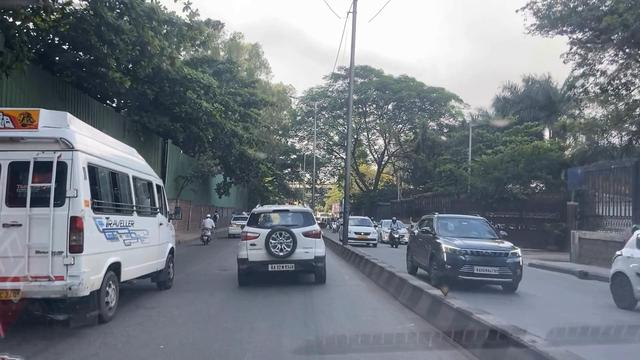HMV: (9, 109, 177, 311)
LMV: (233, 223, 321, 283)
